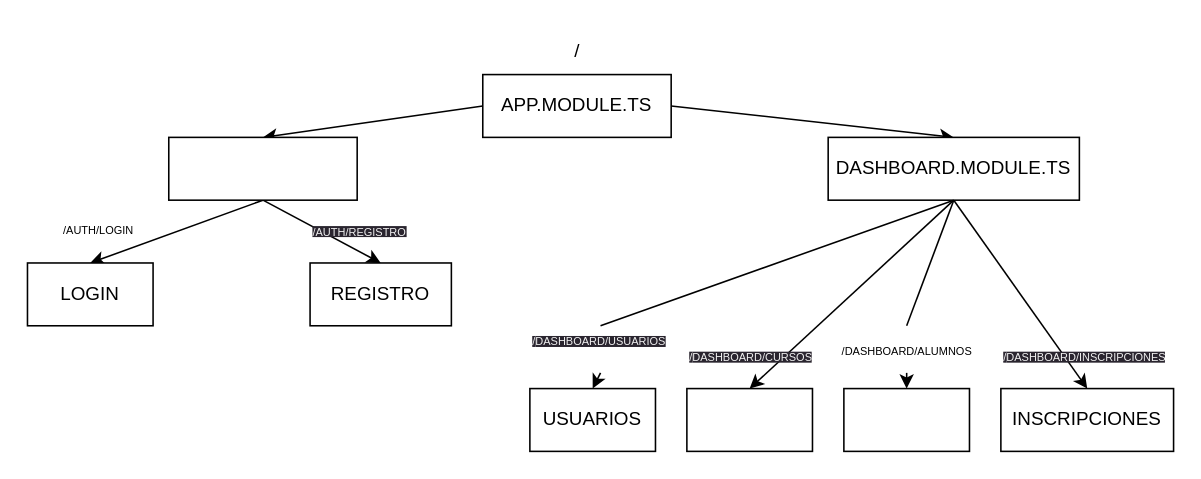
Some shapes in this 1201 by 479 pixel diagram are drawn without their labels. Here are the shapes that lost their labels. From the top down, the box of each, then its label:
(167, 136, 357, 200): AUTH.MODULE.TS
(685, 387, 812, 451): CURSOS
(842, 387, 969, 451): ALUMNOS
